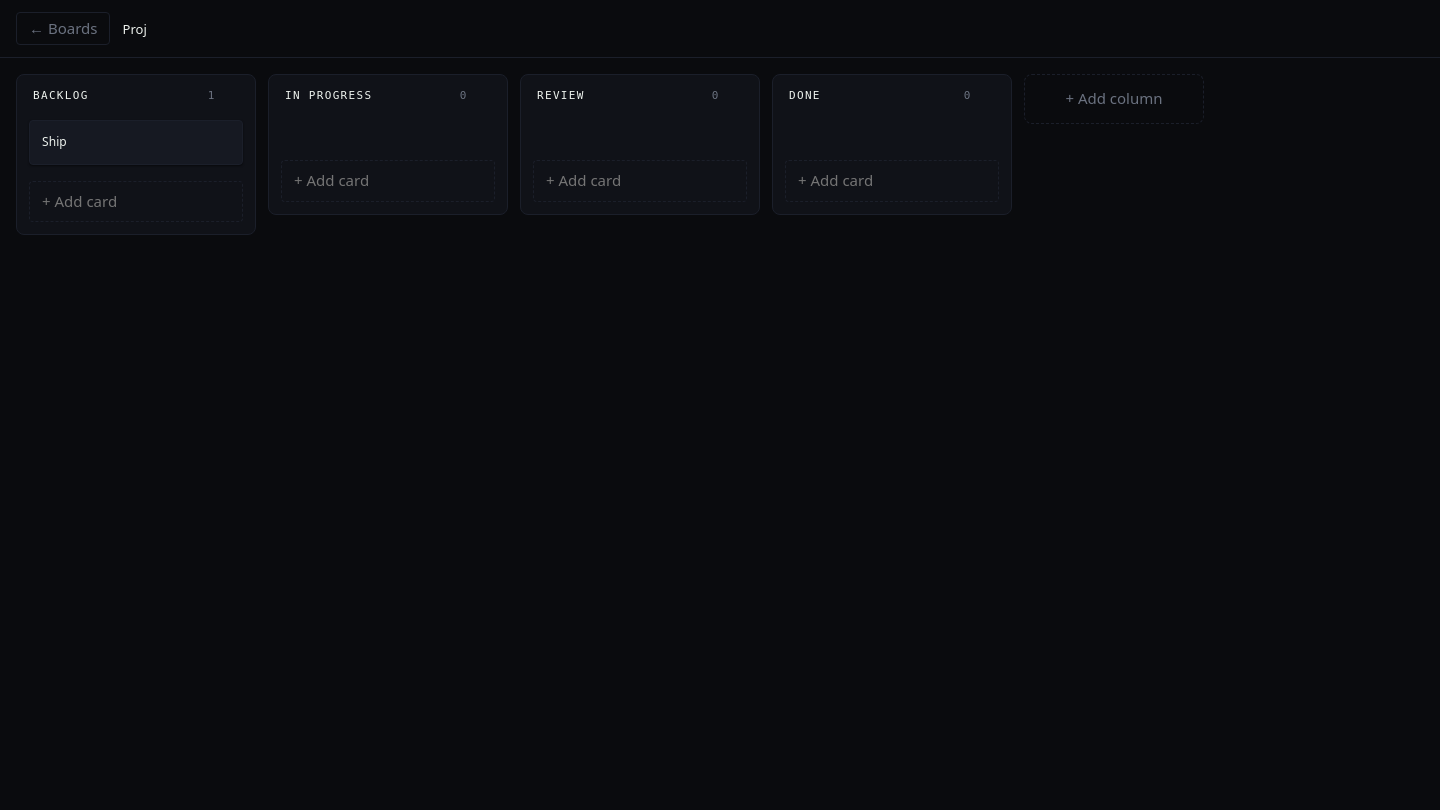
Test case: Kanban board flows › sets a due date on a card
Click the text "Ship" at (54, 142), box [42,133,67,150]
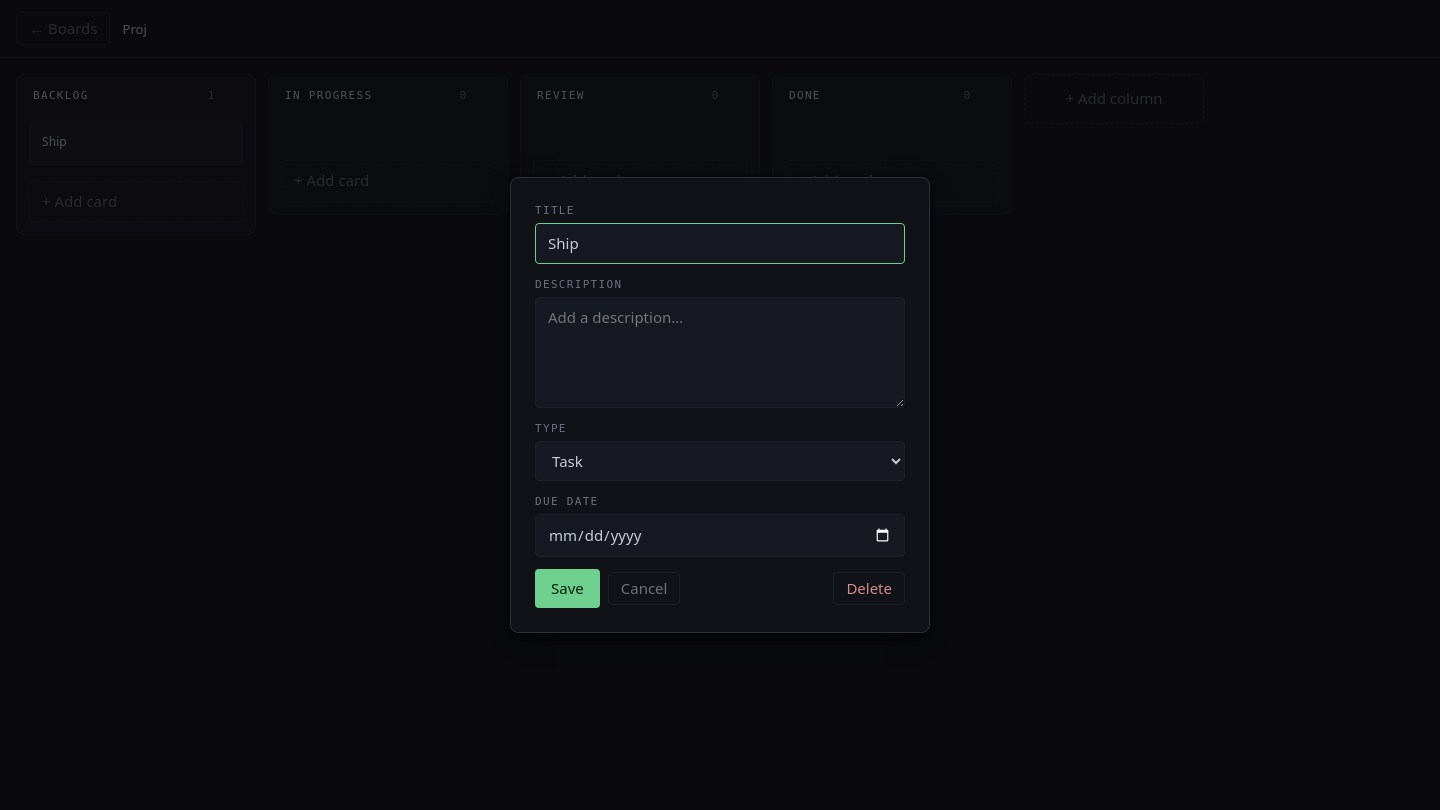
Type "2099-12-31" into the date field labelled "Due date" at (720, 536), box [535,514,905,557]
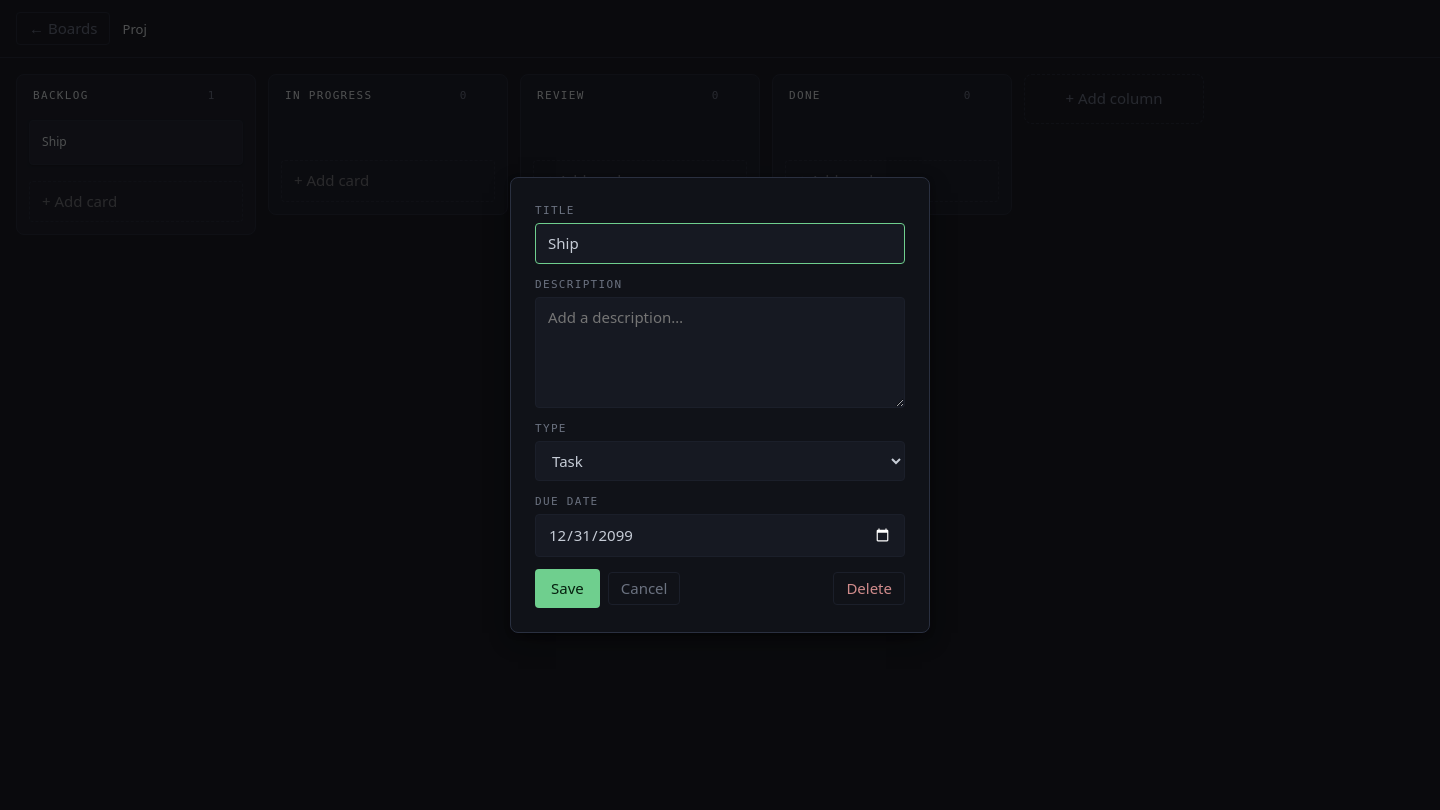
Click the button "Save" at (567, 589), box [535,569,600,608]
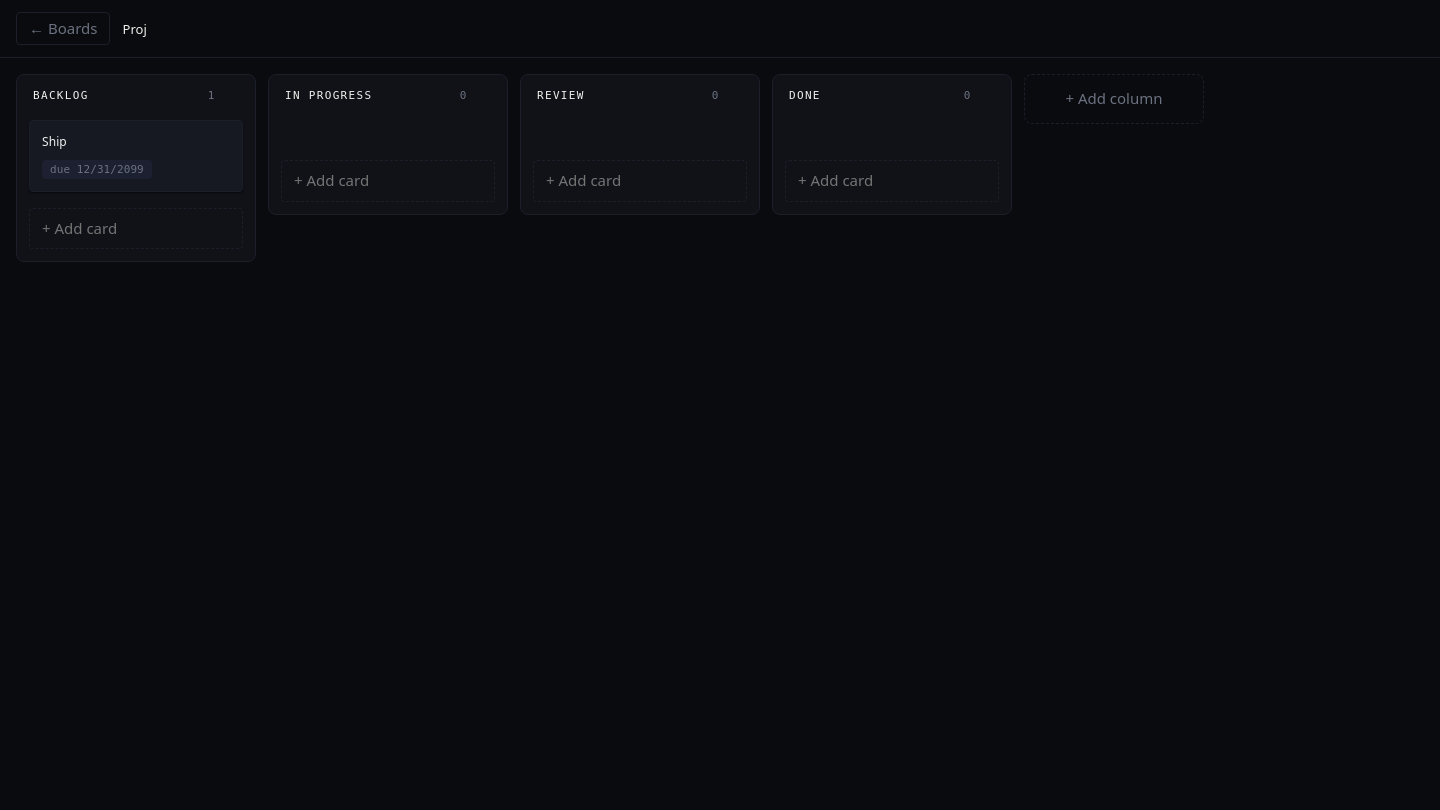
Expected: the text "due 12/31/2099" is shown, [42,160,152,179]
